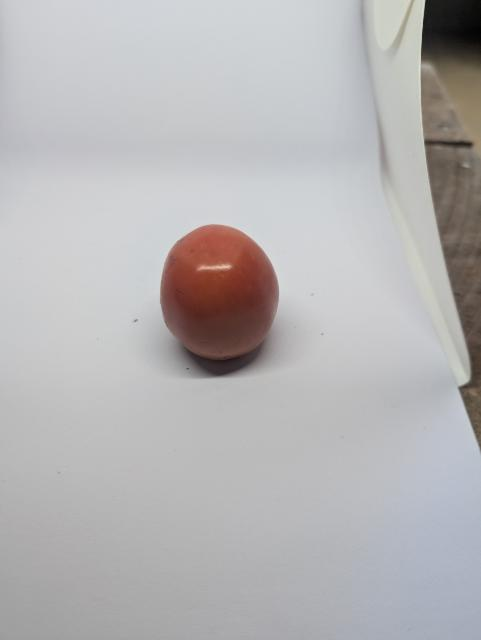red: (151, 217, 294, 368)
